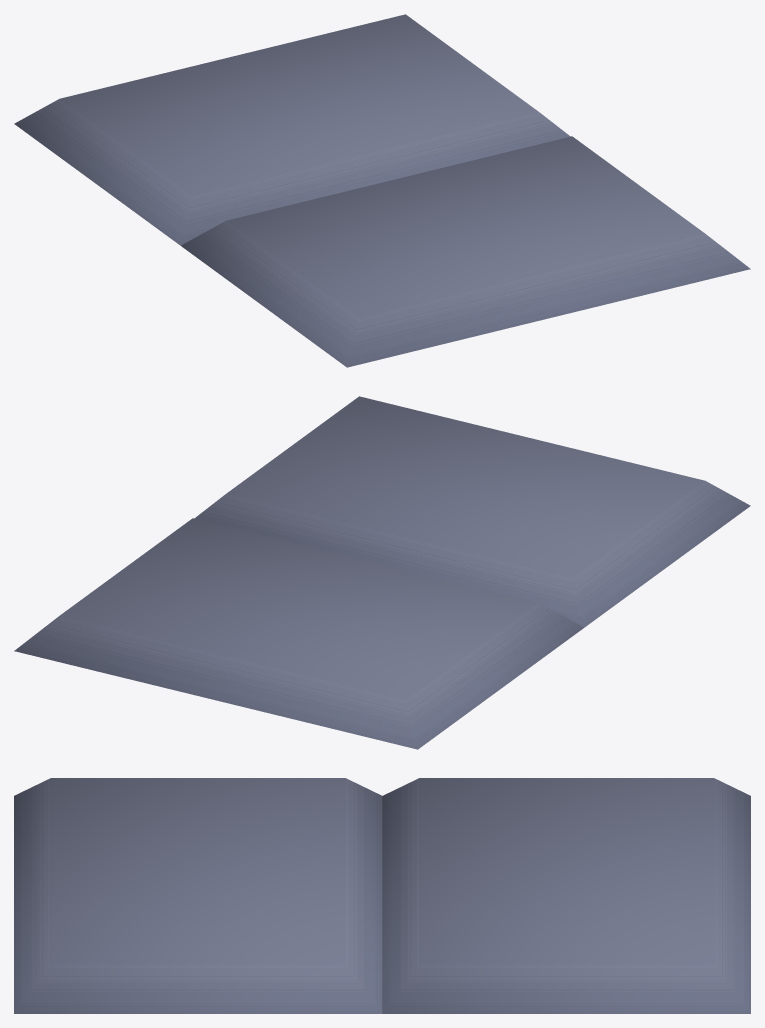
Rendered from path-stones-short.glb.
The picture shows the model from 3 angles, top to bottom: view 1: azimuth 30°, elevation 25°; view 2: azimuth 150°, elevation 25°; view 3: azimuth 270°, elevation 25°; orthographic projection. The views are drawn at different scales.
Visible parts, largest first — view 1: path-stones-short; view 2: path-stones-short; view 3: path-stones-short.
Part boxes in pixels (x1,y1,x2,y2): path-stones-short: [14, 14, 750, 367]; path-stones-short: [14, 396, 750, 749]; path-stones-short: [14, 778, 750, 1013].
Size of the model in its own units: 0.14 by 0.01 by 0.2.
Materials: 1 (1 with a texture image).
